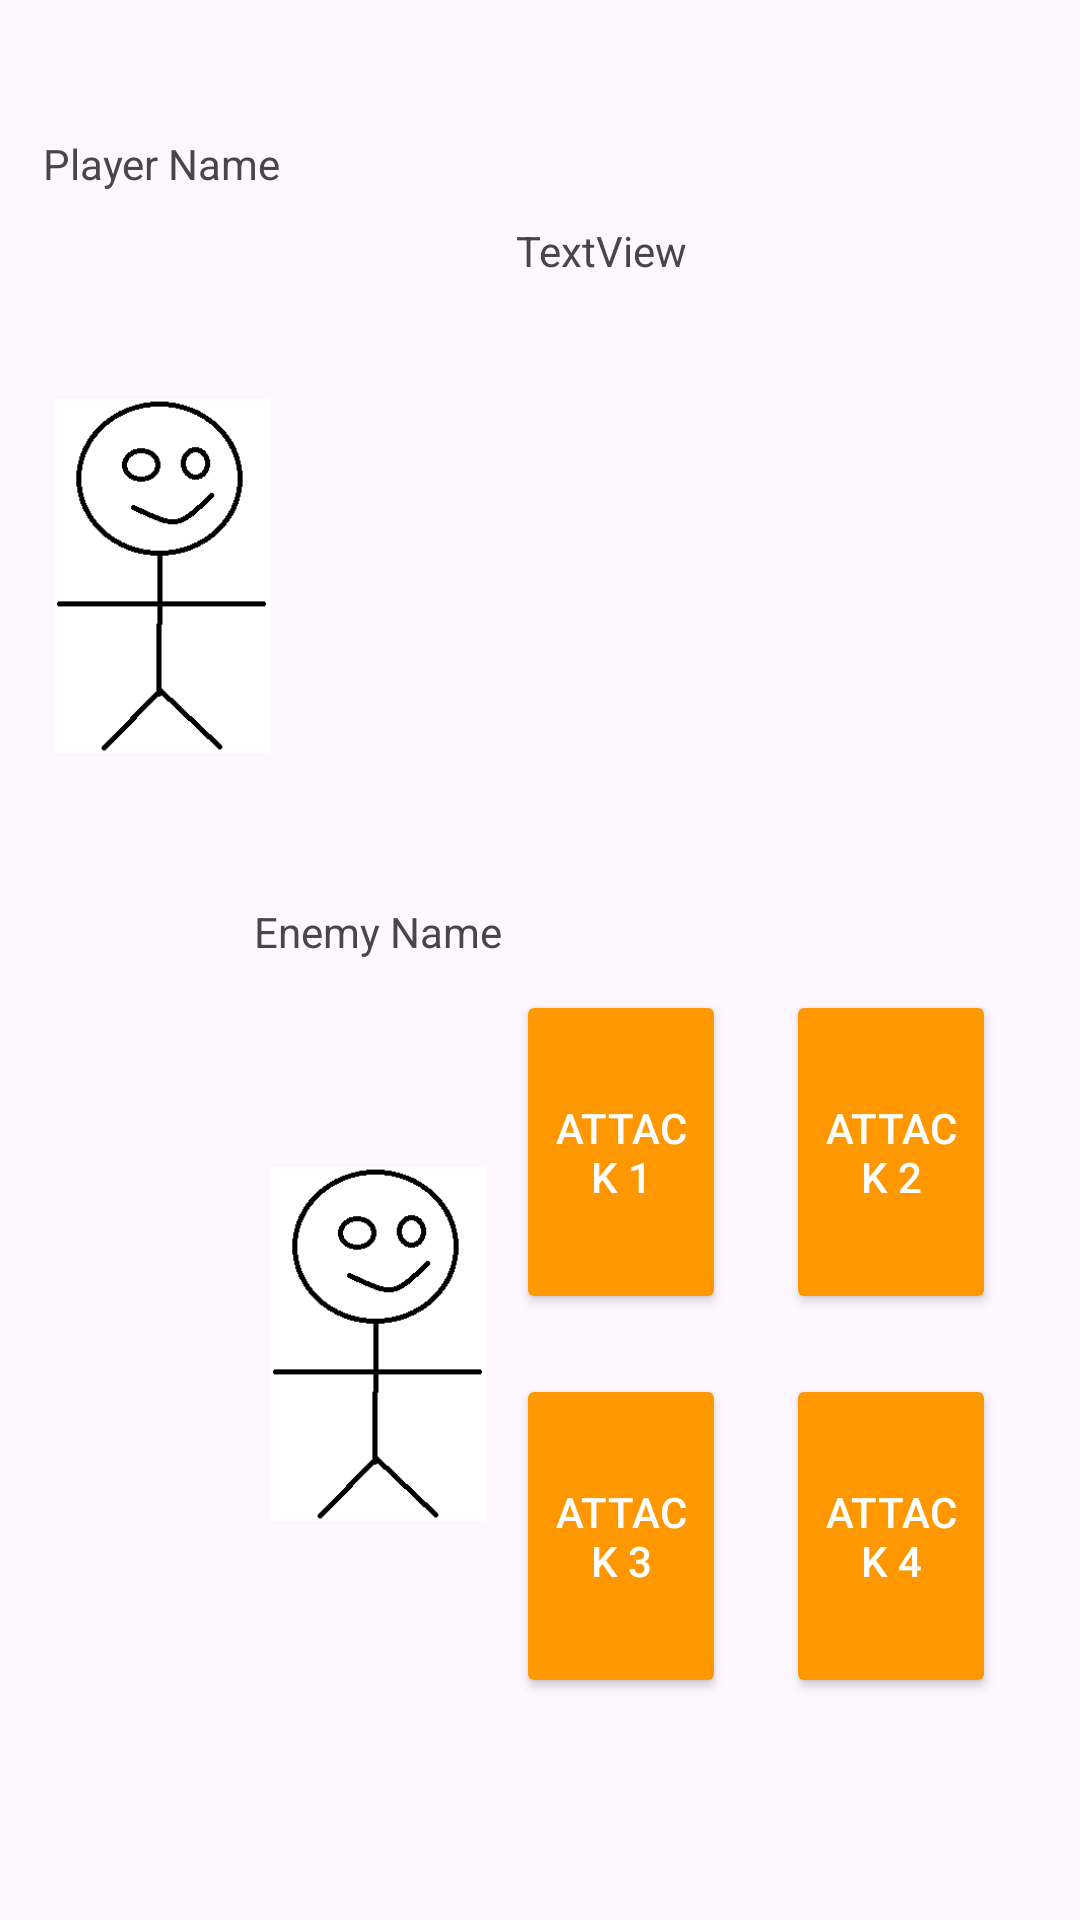

Named icons in this screenshot (1080×1920) and their bounding boxes, Rect(x1, y1, x2, y2):
im person: Rect(57, 401, 266, 751), Rect(273, 1169, 482, 1519)
